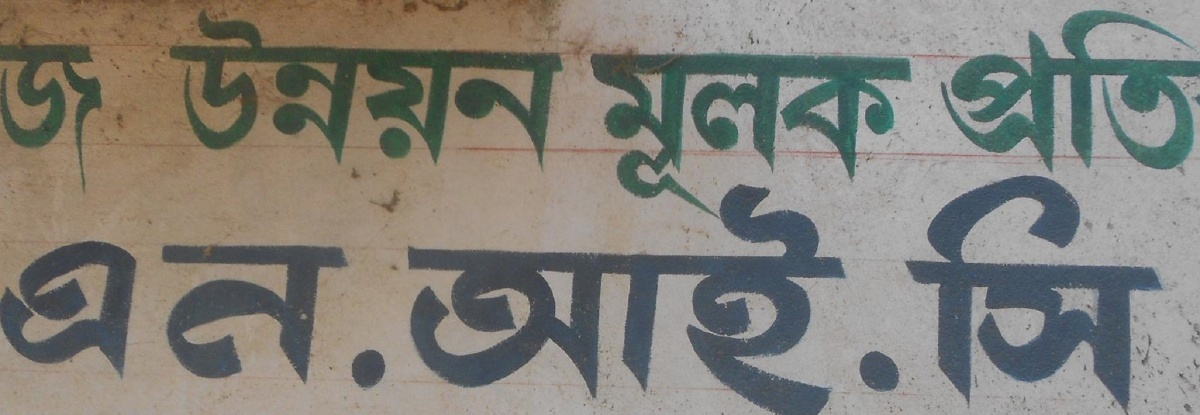text: (417, 171, 432, 413), (433, 171, 448, 413), (449, 171, 464, 413), (465, 171, 480, 413), (481, 171, 496, 413), (497, 171, 512, 413), (513, 171, 528, 413), (529, 171, 544, 413), (545, 171, 560, 413), (561, 171, 576, 413), (577, 171, 592, 413), (593, 171, 608, 413), (609, 171, 624, 413), (625, 171, 640, 413), (641, 171, 656, 413), (657, 171, 672, 413), (673, 171, 688, 413), (689, 171, 704, 413), (705, 171, 720, 413), (721, 171, 736, 413), (737, 171, 752, 413), (753, 171, 768, 413), (769, 171, 784, 413), (785, 171, 800, 413), (801, 171, 816, 413), (817, 171, 832, 413), (833, 171, 848, 413), (849, 171, 864, 413), (865, 171, 880, 413), (881, 171, 896, 413), (913, 177, 928, 413), (929, 177, 944, 413), (945, 177, 960, 413), (961, 177, 976, 413), (977, 177, 992, 413), (993, 177, 1008, 413), (1009, 177, 1024, 413), (1025, 177, 1040, 413), (1041, 177, 1056, 413), (1057, 177, 1072, 413), (1073, 177, 1088, 413), (1089, 177, 1104, 413), (1105, 177, 1120, 413), (1121, 177, 1136, 413), (1137, 177, 1152, 413), (1153, 177, 1168, 413), (945, 9, 960, 178), (961, 9, 976, 178), (977, 9, 992, 178), (993, 9, 1008, 178), (1009, 9, 1024, 178), (1025, 9, 1040, 178), (1041, 9, 1056, 178), (1057, 9, 1072, 178), (1073, 9, 1088, 178), (1089, 9, 1104, 178), (1105, 9, 1120, 178), (1121, 9, 1136, 178), (1137, 9, 1152, 178), (1153, 9, 1168, 178), (1169, 9, 1184, 178), (1185, 9, 1200, 178), (177, 8, 192, 176), (193, 8, 208, 176), (209, 8, 224, 176), (225, 8, 240, 176), (241, 8, 256, 176), (257, 8, 272, 176), (273, 8, 288, 176), (289, 8, 304, 176), (305, 8, 320, 176), (321, 8, 336, 176), (337, 8, 352, 176), (353, 8, 368, 176), (369, 8, 384, 176), (385, 8, 400, 176), (401, 8, 416, 176), (417, 8, 432, 176), (433, 8, 448, 176), (449, 8, 464, 176), (465, 8, 480, 176), (481, 8, 496, 176), (497, 8, 512, 176), (513, 8, 528, 176), (529, 8, 544, 176), (545, 8, 560, 176), (1, 36, 16, 201), (17, 36, 32, 201), (33, 36, 48, 201), (49, 36, 64, 201), (65, 36, 80, 201), (81, 36, 96, 201), (593, 53, 608, 215), (609, 53, 624, 215), (625, 53, 640, 215), (641, 53, 656, 215), (657, 53, 672, 215), (673, 53, 688, 215), (689, 53, 704, 215), (705, 53, 720, 215), (721, 53, 736, 215), (737, 53, 752, 215), (753, 53, 768, 215), (769, 53, 784, 215), (785, 53, 800, 215), (801, 53, 816, 215), (817, 53, 832, 215), (833, 53, 848, 215), (849, 53, 864, 215), (865, 53, 880, 215), (881, 53, 896, 215), (897, 53, 912, 215), (17, 242, 32, 392), (33, 242, 48, 392), (49, 242, 64, 392), (65, 242, 80, 392), (81, 242, 96, 392), (97, 242, 112, 392), (113, 242, 128, 392), (129, 242, 144, 392), (145, 242, 160, 392), (161, 242, 176, 392), (177, 242, 192, 392), (193, 242, 208, 392), (209, 242, 224, 392), (225, 242, 240, 392), (241, 242, 256, 392), (257, 242, 272, 392), (273, 242, 288, 392), (289, 242, 304, 392), (305, 242, 320, 392), (321, 242, 336, 392), (337, 242, 352, 392), (353, 242, 368, 392), (369, 242, 384, 392), (407, 171, 416, 413), (97, 36, 110, 201), (164, 8, 176, 176), (897, 171, 905, 413), (4, 242, 16, 392), (913, 53, 923, 215), (1169, 177, 1175, 413), (561, 8, 569, 176), (385, 242, 392, 392), (908, 177, 912, 413), (939, 9, 944, 178), (588, 53, 592, 215)
